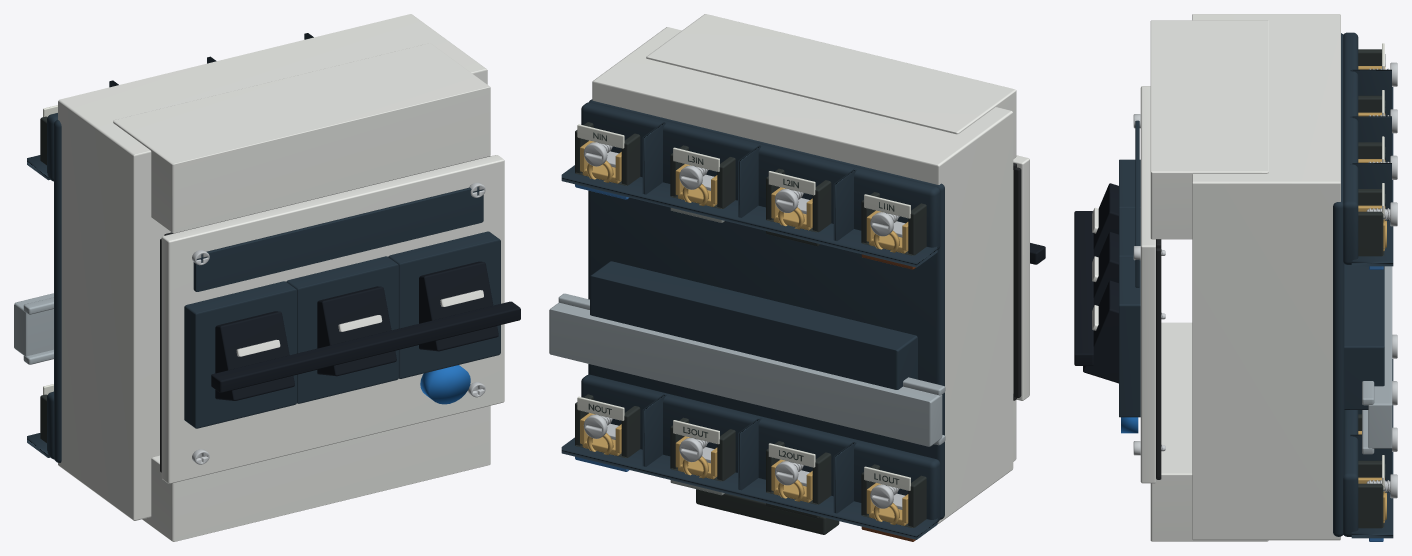
Rendered from rcd3_default.glb.
3 renders of one model, left to right at view 1: azimuth 30°, elevation 25°; view 2: azimuth 150°, elevation 25°; view 3: azimuth 270°, elevation 25°, orthographic. The views are drawn at different scales.
Visible parts, largest first — view 1: part:body · Original 7dbee62c, part:cover, part:body.002, part:body.003, part:body.004, part:body.001, part:terminals · Original a463fd81, motion:toggle, motion:toggle.001, motion:toggle.002, part:mounting · Original 2a8198d3, part:body.005 (+1 smaller); view 2: part:terminals · Original a463fd81, part:body · Original 7dbee62c, part:mounting · Original 2a8198d3, part:body, part:cover, DIN spring slider, detail:enclosure-gasket-and-fixings · Detail rubber gasket, detail:terminal-clamp:L2IN · Detail moulded engineering poly, detail:terminal-clamp:L2OUT · Detail moulded engineering pol, detail:terminal-clamp:NIN · Detail moulded engineering polym, detail:terminal-clamp:NOUT · Detail moulded engineering poly, detail:terminal-clamp:L1OUT · Detail moulded engineering pol (+27 smaller); view 3: part:body · Original 7dbee62c, part:terminals · Original a463fd81, part:cover, part:body, part:body.004, part:mounting · Original 2a8198d3, part:body.001, motion:toggle.002, detail:terminal-clamp:NOUT · Detail moulded engineering poly, detail:terminal-clamp:NIN · Detail moulded engineering polym, detail:enclosure-gasket-and-fixings · Detail rubber gasket, motion:toggle (+7 smaller).
Part boxes in pixels (x1,y1,x2,y2): part:body · Original 7dbee62c: (58,14,490,541); part:cover: (161,155,504,483); part:body.002: (184,281,296,428); part:body.003: (286,256,398,403); part:body.004: (388,231,500,378); part:body.001: (211,301,520,392); part:terminals · Original a463fd81: (27,33,313,462); motion:toggle: (215,311,294,400); motion:toggle.001: (317,286,396,376); motion:toggle.002: (419,261,498,351); part:mounting · Original 2a8198d3: (14,293,53,364); part:body.005: (420,365,470,404); part:terminals · Original a463fd81: (561,99,944,539); part:body · Original 7dbee62c: (592,14,1016,523); part:mounting · Original 2a8198d3: (549,293,945,446); part:body: (590,261,917,389); part:cover: (1013,155,1029,400); DIN spring slider: (696,489,839,534); detail:enclosure-gasket-and-fixings · Detail rubber gasket: (1013,163,1021,400); detail:terminal-clamp:L2IN · Detail moulded engineering poly: (766,168,831,246); detail:terminal-clamp:L2OUT · Detail moulded engineering pol: (766,441,831,518); detail:terminal-clamp:NIN · Detail moulded engineering polym: (575,122,640,185); detail:terminal-clamp:NOUT · Detail moulded engineering poly: (575,394,640,457); detail:terminal-clamp:L1OUT · Detail moulded engineering pol: (861,464,926,527); part:body · Original 7dbee62c: (1150,14,1340,541); part:terminals · Original a463fd81: (1333,32,1393,538); part:cover: (1135,86,1155,483); part:body: (1344,264,1384,409); part:body.004: (1119,257,1140,417); part:mounting · Original 2a8198d3: (1362,266,1392,454); part:body.001: (1074,211,1093,365); motion:toggle.002: (1083,280,1118,383); detail:terminal-clamp:NOUT · Detail moulded engineering poly: (1358,460,1384,528); detail:terminal-clamp:NIN · Detail moulded engineering polym: (1358,189,1384,256); detail:enclosure-gasket-and-fixings · Detail rubber gasket: (1156,239,1161,479); motion:toggle: (1092,183,1118,257).
Bounding box in the file's own units: 0.9477 × 0.9369 × 0.6956.
